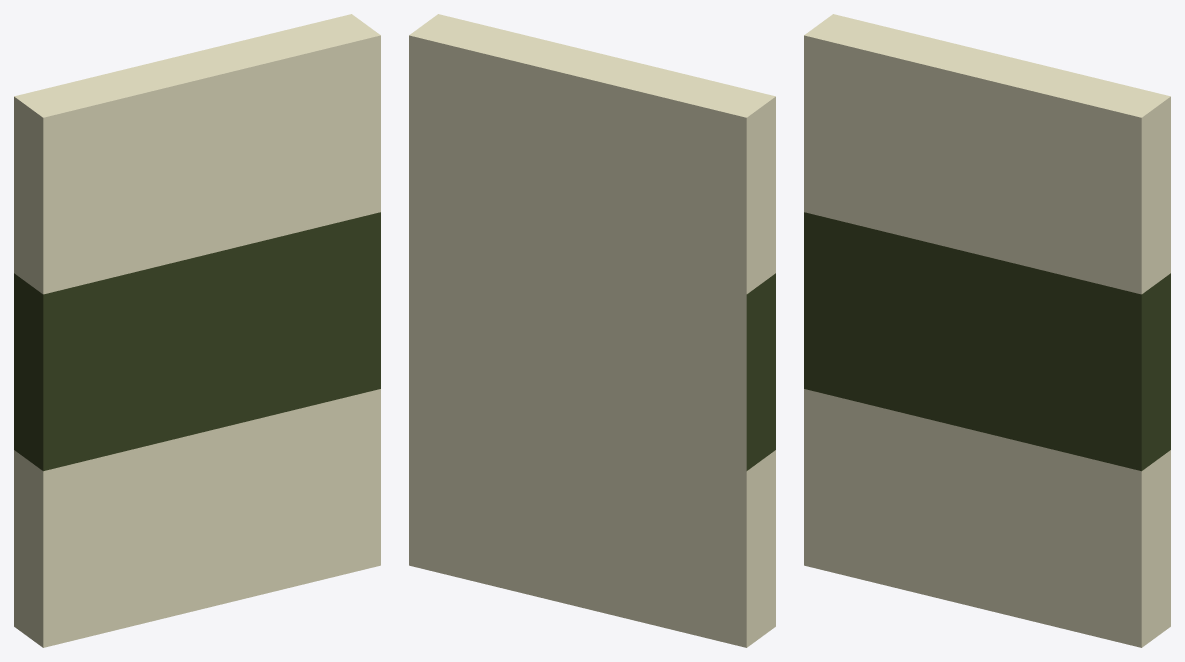
The model's file is wall_plain_exportprep.gltf.
The picture shows the model from 3 angles, left to right: view 1: azimuth 30°, elevation 25°; view 2: azimuth 150°, elevation 25°; view 3: azimuth 330°, elevation 25°; orthographic projection.
Parts seen in each view (by area): view 1: wall_plain; view 2: wall_plain; view 3: wall_plain.
Boxes of the visible parts, left/top/right/bottom form: wall_plain: left=14, top=14, right=380, bottom=647; wall_plain: left=409, top=14, right=775, bottom=647; wall_plain: left=804, top=14, right=1170, bottom=647.
Bounding box in the file's own units: 2 × 3 × 0.3.
